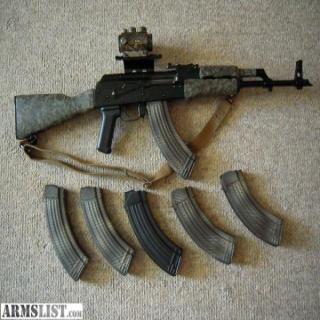gun: (14, 59, 310, 179)
